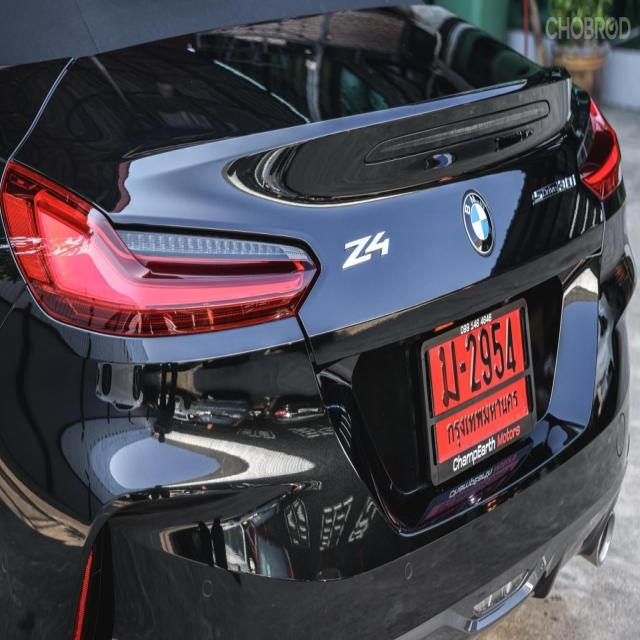license_plate: (405, 284, 550, 506)
